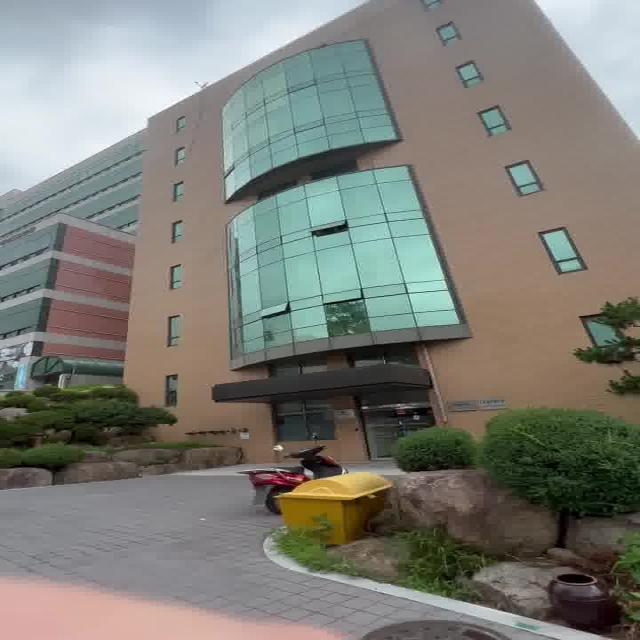building: (139, 71, 590, 409)
